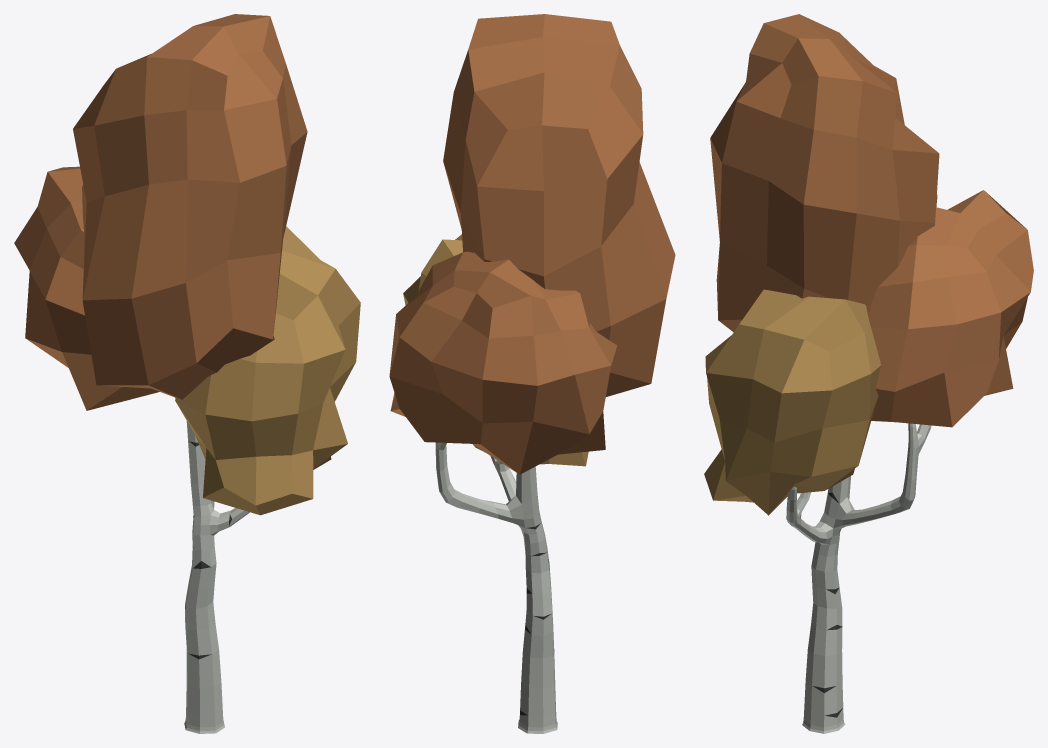
The picture shows the model from 3 angles, left to right: view 1: azimuth 30°, elevation 25°; view 2: azimuth 150°, elevation 25°; view 3: azimuth 270°, elevation 25°; orthographic projection. The views are drawn at different scales.
Visible parts, largest first — view 1: BirchTree_Autumn_3; view 2: BirchTree_Autumn_3; view 3: BirchTree_Autumn_3.
Part boxes in pixels (x1=…): BirchTree_Autumn_3: x1=14, y1=14, x2=360, y2=733; BirchTree_Autumn_3: x1=389, y1=14, x2=675, y2=733; BirchTree_Autumn_3: x1=704, y1=14, x2=1033, y2=733.
Bounding box in the file's own units: 1.57 × 4.09 × 1.77.
